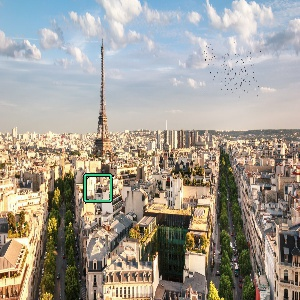square: (82, 171, 113, 203)
